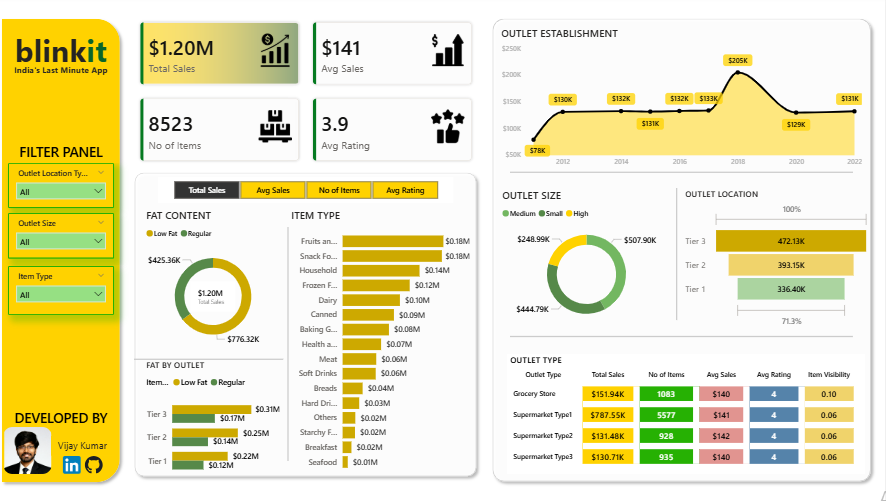

Layout of this report page (visuals, bound fields, positions):
{"tool":"powerbi","page":{"name":"Blinkit Sales Dashboard","canvas":[1400,800],"ordinal":0},"visuals":[{"type":"shape","box":[0,26,204,748],"z":0},{"type":"textbox","box":[18.9,47.2,166.9,83.5],"z":1000},{"type":"textbox","box":[18.9,102.4,166.9,28.3],"z":2000},{"type":"cardVisual","fields":{"Data":["_Measures.Total Sales","_Measures.Avg Sales","_Measures.No of Items","_Measures.Avg Rating"]},"box":[203.1,17.3,570.1,267.7],"z":3000},{"type":"shape","box":[209.4,269.3,555.9,496.1],"z":4000},{"type":"donutChart","title":"FAT CONTENT","fields":{"Y":["_Measures.Total Sales"],"Category":["BlinkIT Grocery Data.Item Fat Content"]},"box":[231.5,333.9,220.5,229.9],"z":5000},{"type":"slicer","fields":{"Values":["Mectrics.Mectrics"]},"box":[255.1,285,464.6,40.9],"z":6000},{"type":"cardVisual","fields":{"Data":["_Measures.Total Sales"]},"box":[300.8,444.1,81.9,58.3],"z":7000},{"type":"clusteredBarChart","title":"FAT BY OUTLET","fields":{"Y":["_Measures.Total Sales"],"Category":["BlinkIT Grocery Data.Outlet Location Type"],"Series":["BlinkIT Grocery Data.Item Fat Content"]},"box":[231.5,571.7,220.5,195.3],"z":8000},{"type":"shape","box":[216.7,563.3,235,16.7],"z":9000},{"type":"shape","box":[452,363.8,15.7,368.5],"z":10000},{"type":"barChart","title":"ITEM TYPE","fields":{"Y":["_Measures.Total Sales"],"Category":["BlinkIT Grocery Data.Item Type"]},"box":[459.8,333.9,291.3,423.6],"z":11000},{"type":"shape","box":[773.3,26.7,613.3,746.7],"z":12000},{"type":"lineChart","title":"OUTLET ESTABLISHMENT","fields":{"Y":["_Measures.Total Sales"],"Category":["BlinkIT Grocery Data.Outlet Establishment Year"]},"box":[790,46.7,578.3,231.7],"z":13000},{"type":"shape","box":[810,270,540,16.7],"z":14000},{"type":"donutChart","title":"OUTLET SIZE","fields":{"Y":["_Measures.Total Sales"],"Category":["BlinkIT Grocery Data.Outlet Size"]},"box":[792.1,302.4,275.6,223.6],"z":15000},{"type":"shape","box":[1068.3,301.7,8.3,208.3],"z":16000},{"type":"funnel","title":"OUTLET LOCATION","fields":{"Y":["Sum(BlinkIT Grocery Data.Sales)"],"Category":["BlinkIT Grocery Data.Outlet Location Type"]},"box":[1080,301.7,300,225],"z":17000},{"type":"pivotTable","title":"OUTLET TYPE","fields":{"Rows":["BlinkIT Grocery Data.Outlet Type"],"Values":["_Measures.Total Sales","_Measures.No of Items","_Measures.Avg Sales","_Measures.Avg Rating","Avg(BlinkIT Grocery Data.Item Visibility)"]},"box":[804.7,563.8,563.8,189],"z":18000},{"type":"shape","box":[809.4,527.6,540.2,17.3],"z":19000},{"type":"slicer","fields":{"Values":["BlinkIT Grocery Data.Outlet Location Type"]},"box":[18.9,263,166.9,70.9],"z":20000},{"type":"slicer","fields":{"Values":["BlinkIT Grocery Data.Outlet Size"]},"box":[18.9,341.7,166.9,72.4],"z":21000},{"type":"slicer","fields":{"Values":["BlinkIT Grocery Data.Item Type"]},"box":[18.9,425.2,166.9,77.2],"z":22000},{"type":"textbox","box":[11,225.2,182.7,37.8],"z":23000},{"type":"textbox","box":[17.3,644.1,170.1,48.8],"z":24000},{"type":"image","box":[11,678.7,77.2,74],"z":25000},{"type":"textbox","box":[86.6,692.9,99.2,31.5],"z":26000},{"type":"image","box":[102.4,724.4,34.6,28.3],"z":27000},{"type":"image","box":[137,724.4,34.6,28.3],"z":28000}]}

Visuals, with their boxes in screenshot pixels (x1, y1, x2, y2), scaled from the page's 1400x800 canvas onto the 886x501 screenshot:
shape: 0/16/129/485
textbox: 12/30/118/82
textbox: 12/64/118/82
cardVisual - _Measures.Total Sales x _Measures.Avg Sales: 129/11/489/178
shape: 133/169/484/479
"FAT CONTENT" donutChart: 147/209/286/353
slicer - Mectrics.Mectrics: 161/178/455/204
cardVisual - _Measures.Total Sales: 190/278/242/315
"FAT BY OUTLET" clusteredBarChart: 147/358/286/480
shape: 137/353/286/363
shape: 286/228/296/459
"ITEM TYPE" barChart: 291/209/475/474
shape: 489/17/878/484
"OUTLET ESTABLISHMENT" lineChart: 500/29/866/174
shape: 513/169/854/180
"OUTLET SIZE" donutChart: 501/189/676/329
shape: 676/189/681/319
"OUTLET LOCATION" funnel: 683/189/873/330
"OUTLET TYPE" pivotTable: 509/353/866/471
shape: 512/330/854/341
slicer - BlinkIT Grocery Data.Outlet Location Type: 12/165/118/209
slicer - BlinkIT Grocery Data.Outlet Size: 12/214/118/259
slicer - BlinkIT Grocery Data.Item Type: 12/266/118/315
textbox: 7/141/123/165
textbox: 11/403/119/434
image: 7/425/56/471
textbox: 55/434/118/454
image: 65/454/87/471
image: 87/454/109/471
